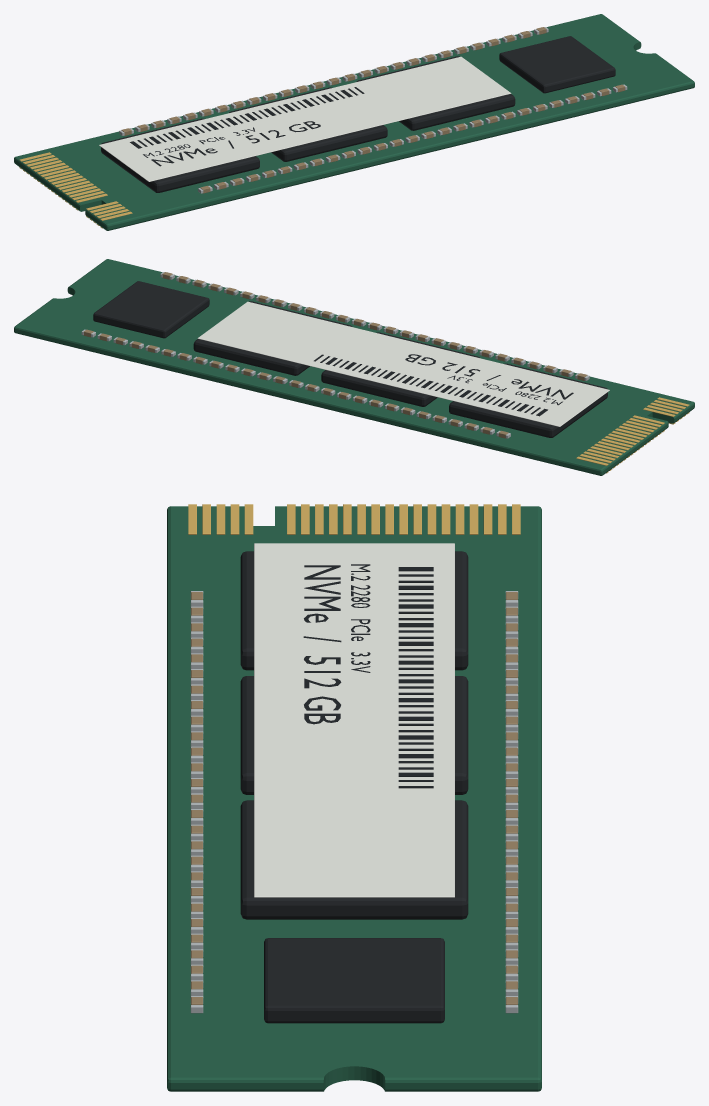
Rendered from ssd.glb.
3 renders of one model, top to bottom at view 1: azimuth 30°, elevation 25°; view 2: azimuth 150°, elevation 25°; view 3: azimuth 270°, elevation 25°, orthographic. The views are drawn at different scales.
Visible parts, largest first — view 1: ssd; view 2: ssd; view 3: ssd.
Boxes of the visible parts, left/top/right/bottom form: ssd: left=14, top=14, right=694, bottom=230; ssd: left=14, top=259, right=694, bottom=475; ssd: left=167, top=504, right=541, bottom=1091.
Size of the model in its own units: 2.03 by 0.066 by 0.56.
